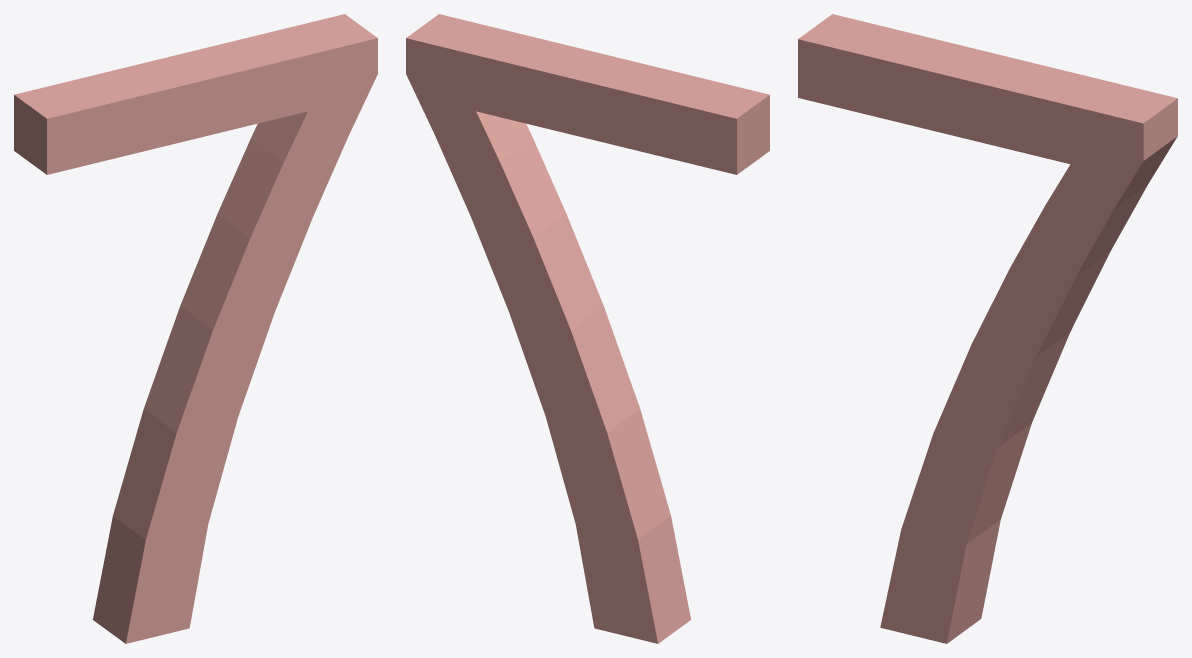
Rendered from tsifa6.fbx.
3 renders of one model, left to right at view 1: azimuth 30°, elevation 25°; view 2: azimuth 150°, elevation 25°; view 3: azimuth 330°, elevation 25°, orthographic. The views are drawn at different scales.
Parts seen in each view (by area): view 1: Extrude_9; view 2: Extrude_9; view 3: Extrude_9.
Boxes of the visible parts, x1,y1,x2,y2 form: Extrude_9: [14, 14, 377, 643]; Extrude_9: [406, 14, 769, 643]; Extrude_9: [798, 14, 1177, 643].
Size of the model in its own units: 5.79 by 9.1 by 1.
